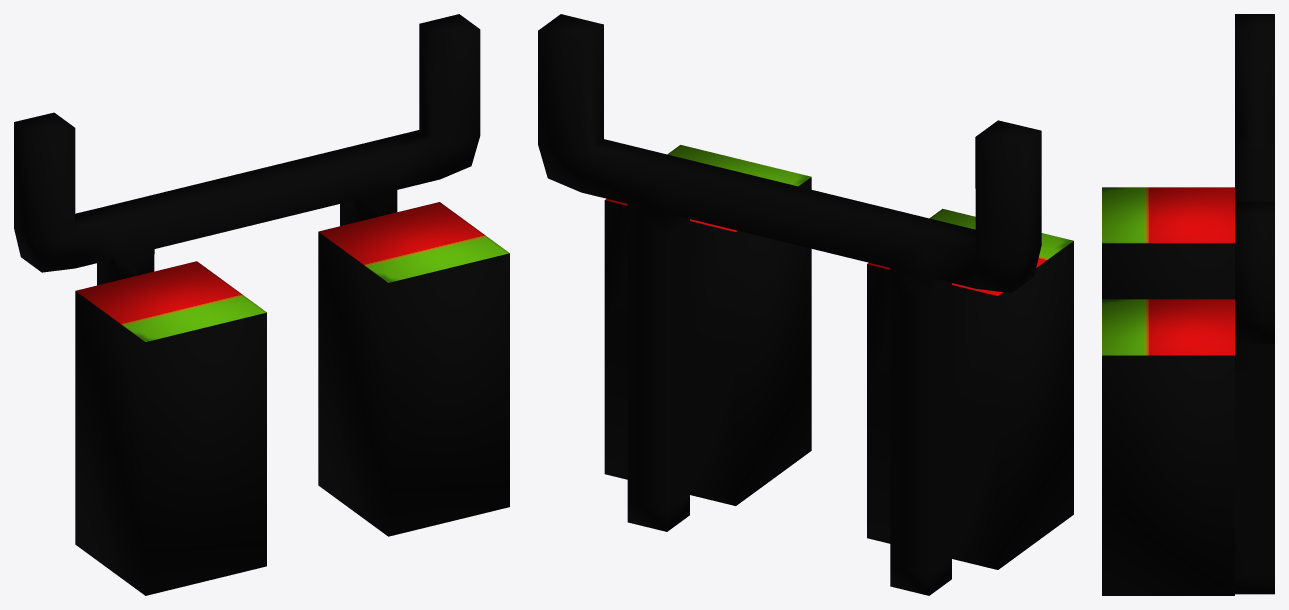
The picture shows the model from 3 angles, left to right: view 1: azimuth 30°, elevation 25°; view 2: azimuth 150°, elevation 25°; view 3: azimuth 270°, elevation 25°; orthographic projection. The views are drawn at different scales.
Visible parts, largest first — view 1: T1L1M004_1; view 2: T1L1M004_1; view 3: T1L1M004_1.
Part boxes in pixels (bbox=[...]): T1L1M004_1: bbox=[14, 14, 509, 595]; T1L1M004_1: bbox=[538, 14, 1073, 595]; T1L1M004_1: bbox=[1102, 14, 1274, 595].
Size of the model in its own units: 1.47 by 1.37 by 0.5205.
